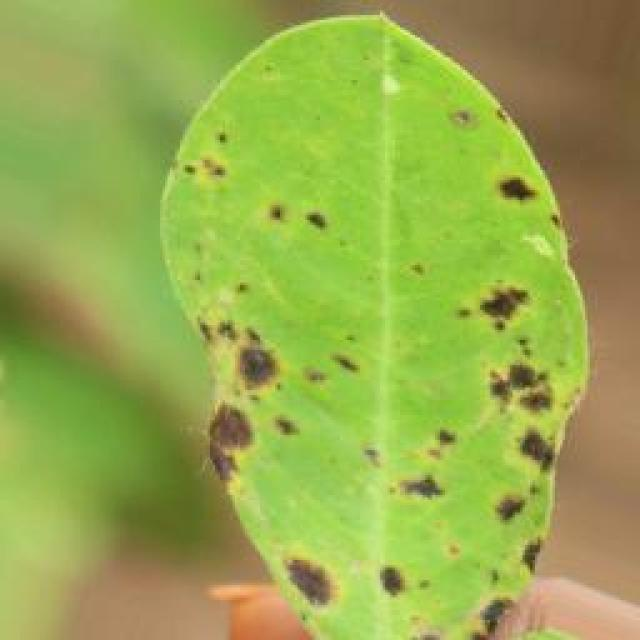Yellowish: (176, 92, 596, 640)
